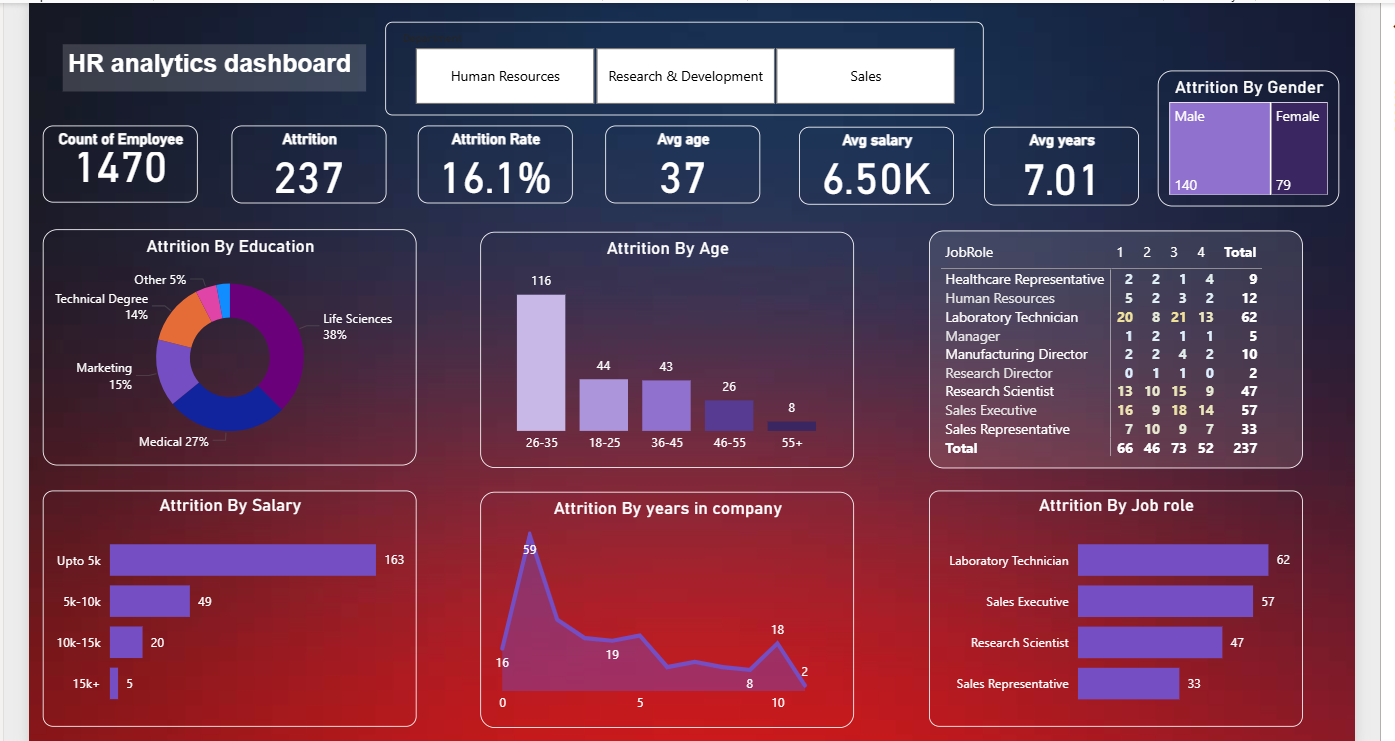

What the dashboard file says about the page in this screenshot:
{"tool":"powerbi","page":{"name":"Page 1","canvas":[1280,720],"ordinal":0},"visuals":[{"type":"card","title":"Count of Employee","fields":{"Values":["Count(HR_Analytics.EmpID)"]},"box":[13.7,118,149.6,75.5],"z":0},{"type":"card","title":"Attrition","fields":{"Values":["Sum(HR_Analytics.Attritioncount)"]},"box":[194.9,118,149.6,75.5],"z":1000},{"type":"card","title":"Attrition Rate","fields":{"Values":["HR_Analytics.Attritionrate"]},"box":[374.6,118,149.6,75.5],"z":2000},{"type":"card","title":"Avg age ","fields":{"Values":["Avg(HR_Analytics.Age)"]},"box":[555.7,118,149.6,75.5],"z":3000},{"type":"card","title":"Avg salary","fields":{"Values":["Avg(HR_Analytics.MonthlyIncome)"]},"box":[743.7,119.4,149.6,75.5],"z":4000},{"type":"card","title":"Avg years","fields":{"Values":["Avg(HR_Analytics.YearsAtCompany)"]},"box":[921.7,119.4,149.6,76],"z":5000},{"type":"donutChart","title":"Attrition By Education","fields":{"Category":["HR_Analytics.EducationField"],"Y":["Sum(HR_Analytics.Attritioncount)"]},"box":[13.7,218.2,360.9,227.8],"z":6000},{"type":"clusteredColumnChart","title":"Attrition By Age","fields":{"Category":["HR_Analytics.AgeGroup"],"Y":["Sum(HR_Analytics.Attritioncount)"]},"box":[435.5,220.8,360.7,228],"z":7000},{"type":"pivotTable","fields":{"Rows":["HR_Analytics.JobRole"],"Columns":["HR_Analytics.JobSatisfaction"],"Values":["Sum(HR_Analytics.Attritioncount)"]},"box":[868.6,219.6,360.7,229.2],"z":8000},{"type":"barChart","title":"Attrition By Salary","fields":{"Category":["HR_Analytics.SalarySlab"],"Y":["Sum(HR_Analytics.Attritioncount)"]},"box":[13.7,470.7,360.9,227.8],"z":9000},{"type":"barChart","title":"Attrition By Job role","fields":{"Category":["HR_Analytics.JobRole"],"Y":["Sum(HR_Analytics.Attritioncount)"]},"box":[868.6,470.5,360.7,228],"z":10000},{"type":"areaChart","title":"Attrition By years in company","fields":{"Category":["HR_Analytics.YearsAtCompany"],"Y":["Sum(HR_Analytics.Attritioncount)"]},"box":[435.5,471.7,360.7,228],"z":11000},{"type":"treemap","title":"Attrition By Gender","fields":{"Group":["HR_Analytics.Gender"],"Values":["Sum(HR_Analytics.Attritioncount)"]},"box":[1090,65,175,131.2],"z":12000},{"type":"slicer","fields":{"Values":["HR_Analytics.Department"]},"box":[344.4,17.8,577.7,90.6],"z":13000},{"type":"textbox","box":[32.6,39.8,293.2,45.8],"z":14000}]}

Visuals, with their boxes on the page's 1280x720 design canvas (x1, y1, x2, y2). These are canvas units, not pixel positions in the 1395x741 screenshot, which may show the page scaled, cropped or inside an application window:
"Count of Employee" card: 14, 118, 163, 194
"Attrition" card: 195, 118, 344, 194
"Attrition Rate" card: 375, 118, 524, 194
"Avg age " card: 556, 118, 705, 194
"Avg salary" card: 744, 119, 893, 195
"Avg years" card: 922, 119, 1071, 195
"Attrition By Education" donutChart: 14, 218, 375, 446
"Attrition By Age" clusteredColumnChart: 436, 221, 796, 449
pivotTable - HR_Analytics.JobRole x HR_Analytics.JobSatisfaction: 869, 220, 1229, 449
"Attrition By Salary" barChart: 14, 471, 375, 698
"Attrition By Job role" barChart: 869, 470, 1229, 698
"Attrition By years in company" areaChart: 436, 472, 796, 700
"Attrition By Gender" treemap: 1090, 65, 1265, 196
slicer - HR_Analytics.Department: 344, 18, 922, 108
textbox: 33, 40, 326, 86
